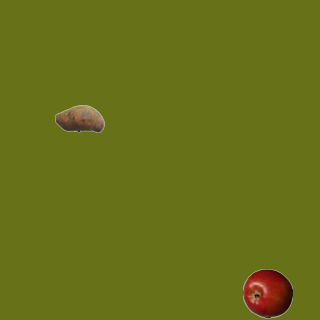Apple Braeburn: (242, 268, 292, 318)
Potato Sweet: (54, 93, 104, 143)
